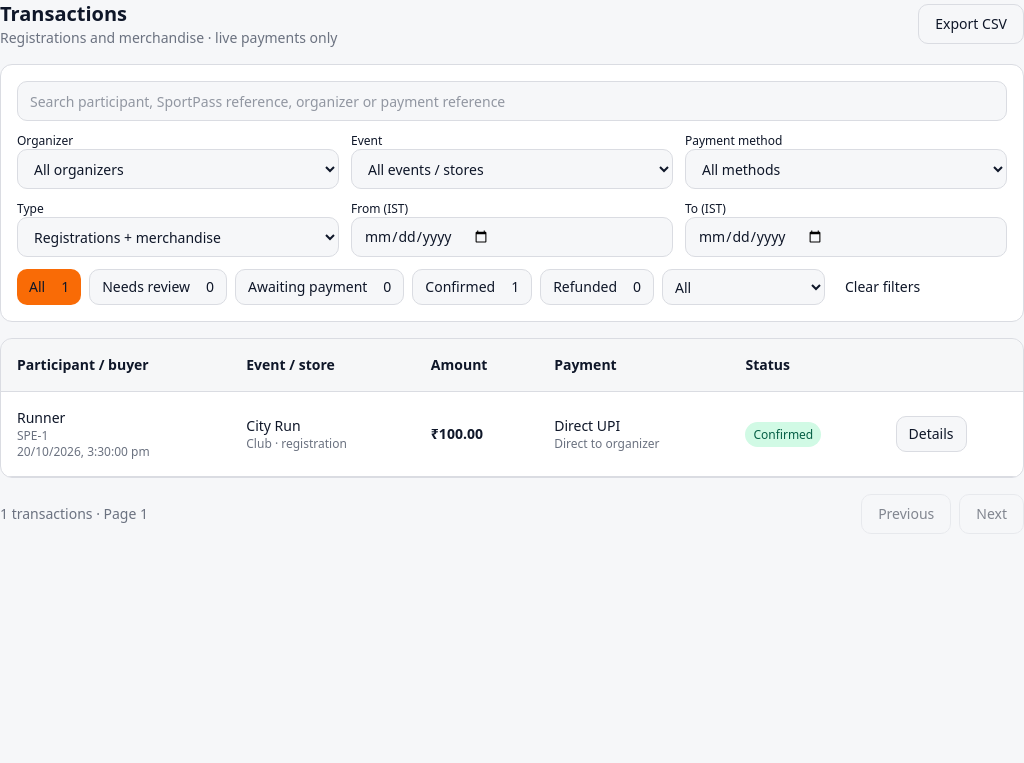
Test: keeps payment provenance visible and opens reference history without leaving the list
The width and height of the screenshot is (1024, 763).
Expected: the text "Runner" is shown, [17,408,65,427]
Expected: the text "Direct to organizer" is shown, [554,435,660,452]
Click the button "Details". click: click(931, 434)
box: [896,416,967,452]
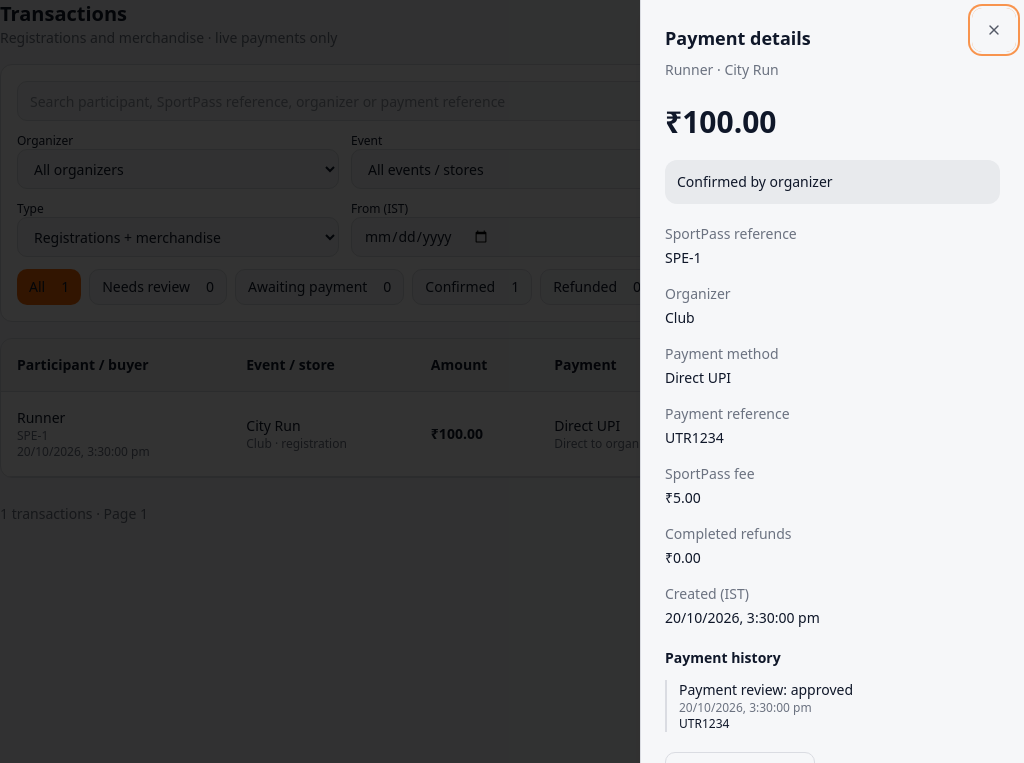
Now the text "Payment review: approved" is shown, box [679,680,853,699]
Now the text "Confirmed by organizer" is shown, box [665,160,1000,204]
